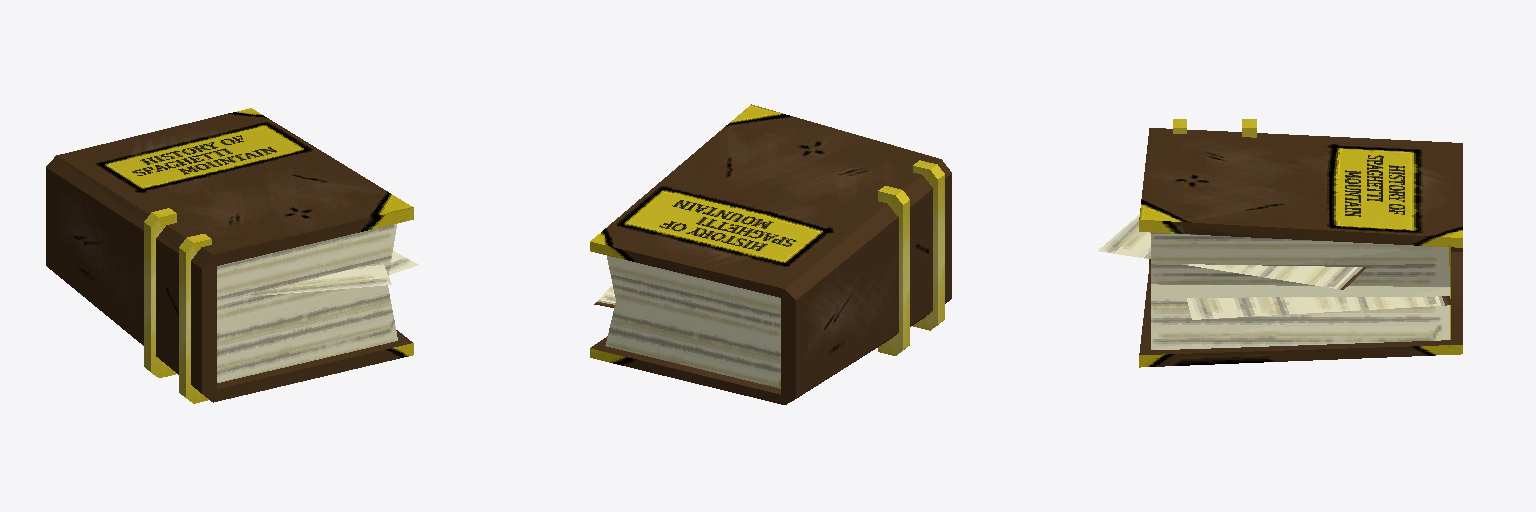
The picture shows the model from 3 angles: view 1: azimuth 30°, elevation 25°; view 2: azimuth 150°, elevation 25°; view 3: azimuth 270°, elevation 25°; orthographic projection.
Visible parts, largest first — view 1: Quest_HistoryBook; view 2: Quest_HistoryBook; view 3: Quest_HistoryBook.
Part boxes in pixels (x1,y1,x2,y2): Quest_HistoryBook: (46, 108, 418, 403); Quest_HistoryBook: (590, 104, 951, 404); Quest_HistoryBook: (1098, 119, 1462, 367).
Size of the model in its own units: 0.5962 by 0.3713 by 0.7634.
Materials: 1 (1 with a texture image).